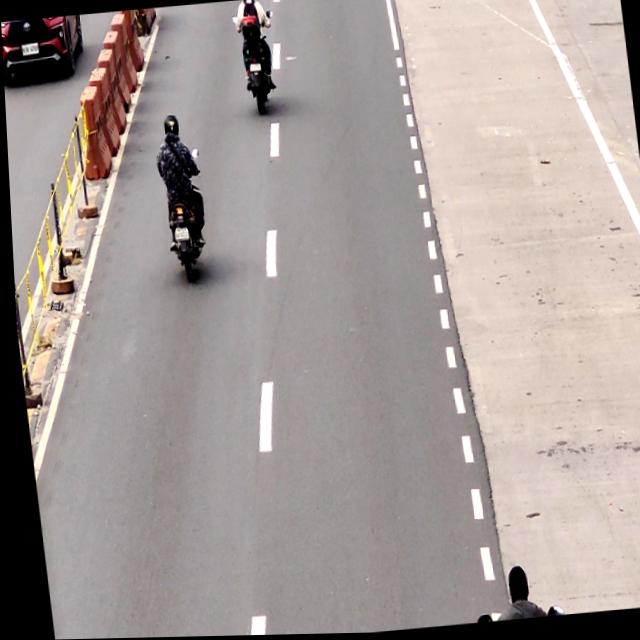License-Plate: (168, 225, 188, 244), (245, 61, 263, 74)
Motorcycle: (150, 114, 207, 283), (230, 0, 279, 117)
